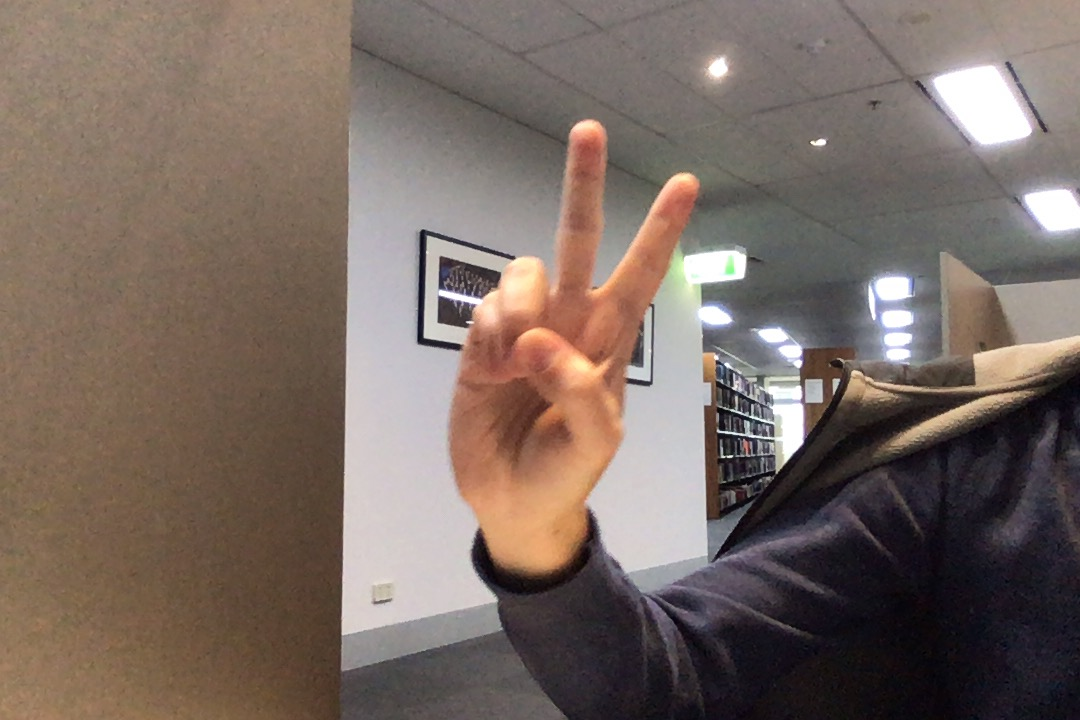peacesign: (434, 107, 705, 554)
